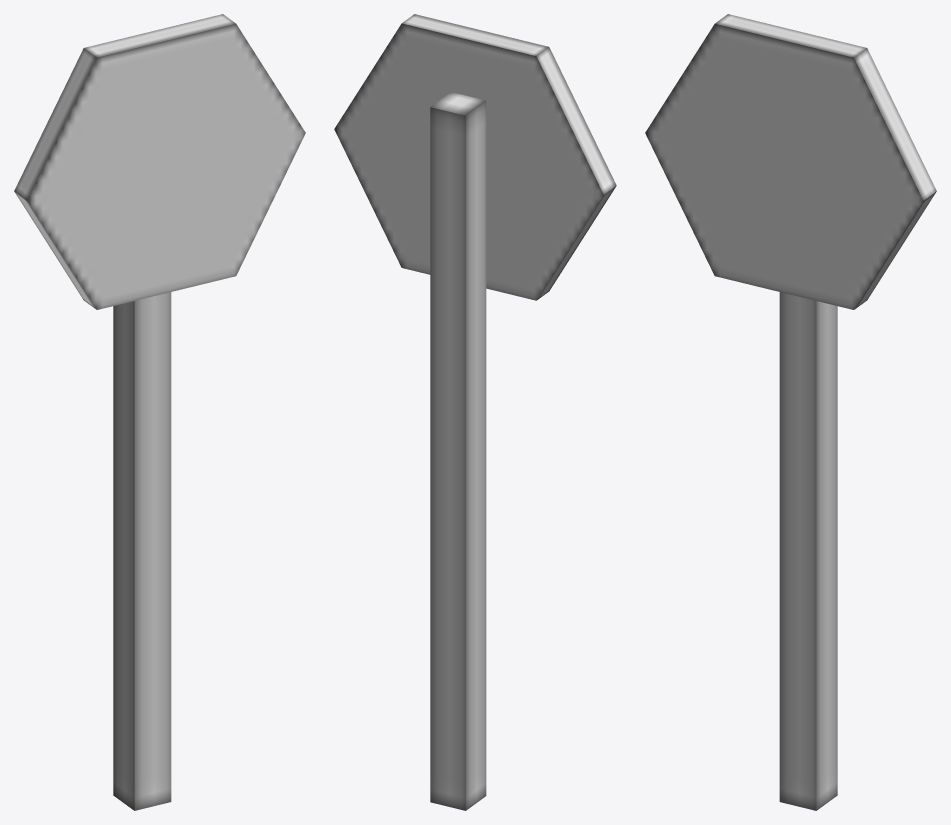
File: Sign-02.fbx
3 renders of one model, left to right at view 1: azimuth 30°, elevation 25°; view 2: azimuth 150°, elevation 25°; view 3: azimuth 330°, elevation 25°, orthographic. The views are drawn at different scales.
Visible parts, largest first — view 1: Sign_02; view 2: Sign_02; view 3: Sign_02.
Boxes of the visible parts, x1,y1,x2,y2 form: Sign_02: (14,14,305,810); Sign_02: (334,14,616,810); Sign_02: (645,14,936,810).
Bounding box in the file's own units: 0.3599 × 0.9579 × 0.0782.
